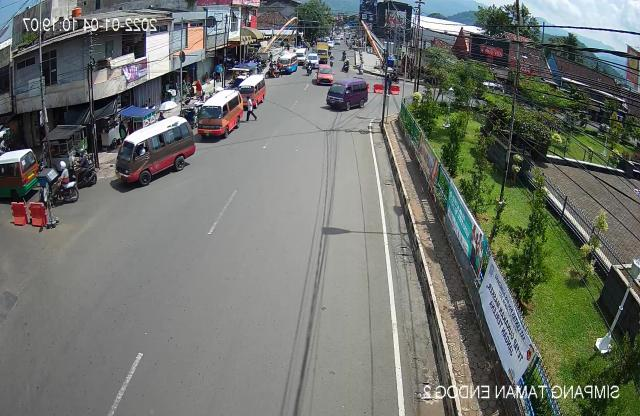Becak: (32, 160, 81, 205)
Mobil: (109, 115, 197, 195), (194, 88, 245, 144), (0, 146, 39, 204), (323, 73, 370, 116), (238, 74, 265, 110)
Motor: (72, 148, 98, 186)
